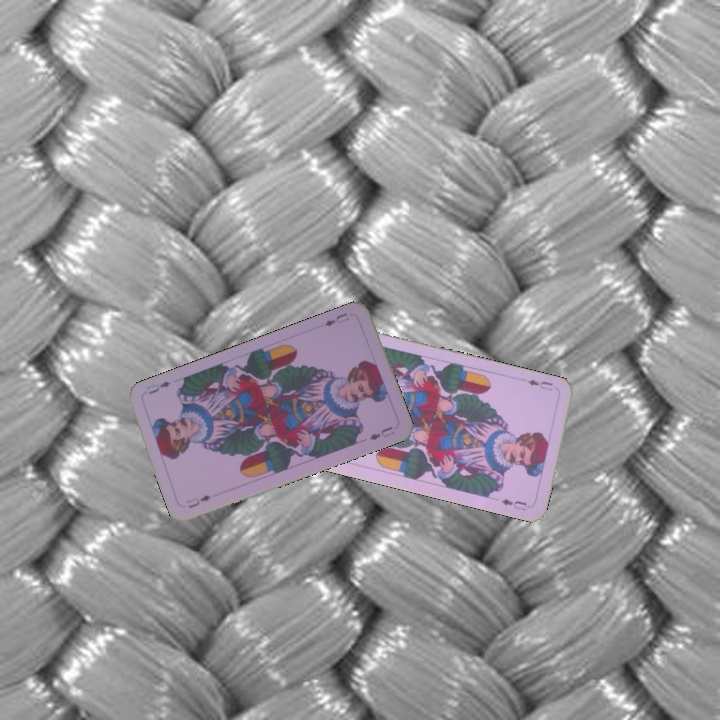EU: (320, 309, 352, 329), (182, 491, 214, 511), (524, 375, 555, 393)
